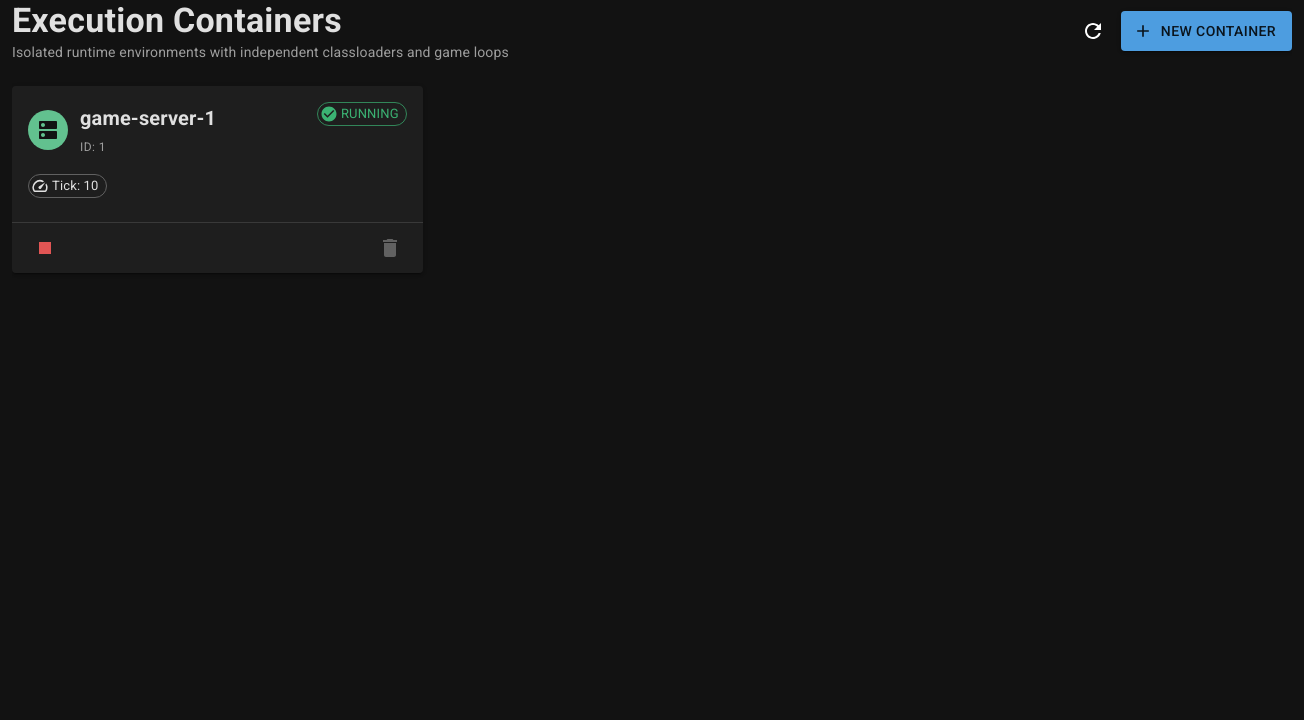
Test: ContainerDashboard › renders container statistics when container is selected
Click the text "game-server-1": [148, 118] box left=80, top=102, right=216, bottom=134
(page scrolled)
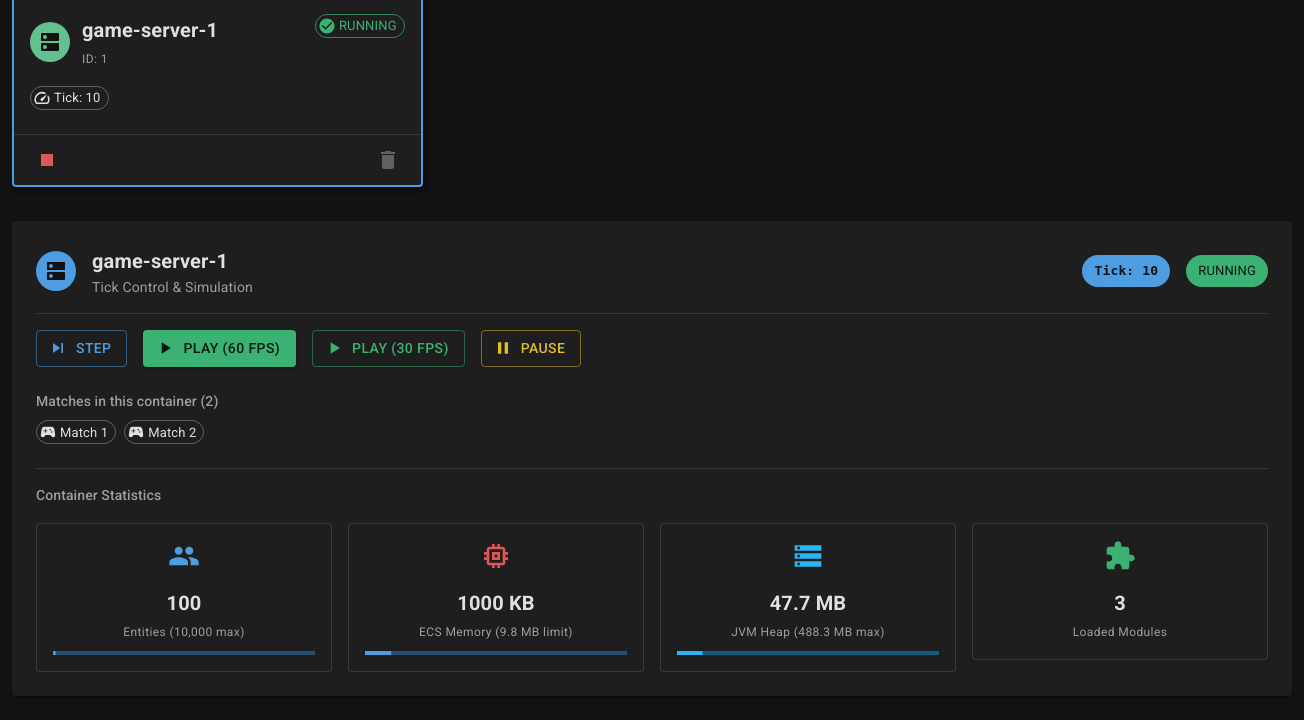
Expected: the heading "Container Statistics" is shown, left=36, top=488, right=161, bottom=504
Expected: the text "Entities (10,000 max)" is shown, left=123, top=626, right=245, bottom=640
